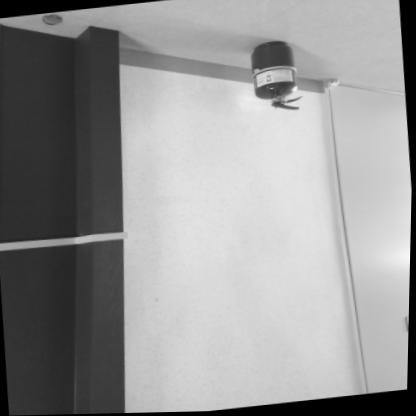FE: (247, 39, 304, 116)
